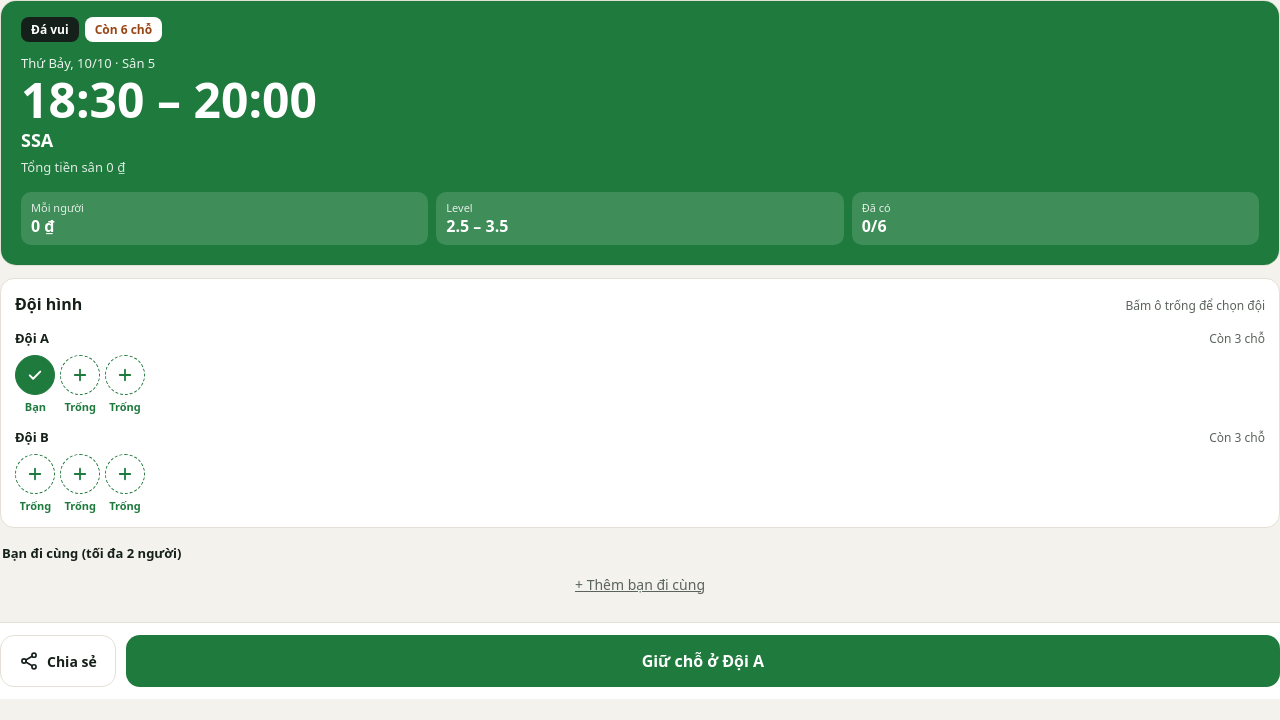
Scenario: TeamSlots › explains a refusal and refreshes the roster
Click the button "Giữ chỗ ở Đội A". click: (703, 661)
box: [126, 635, 1279, 687]
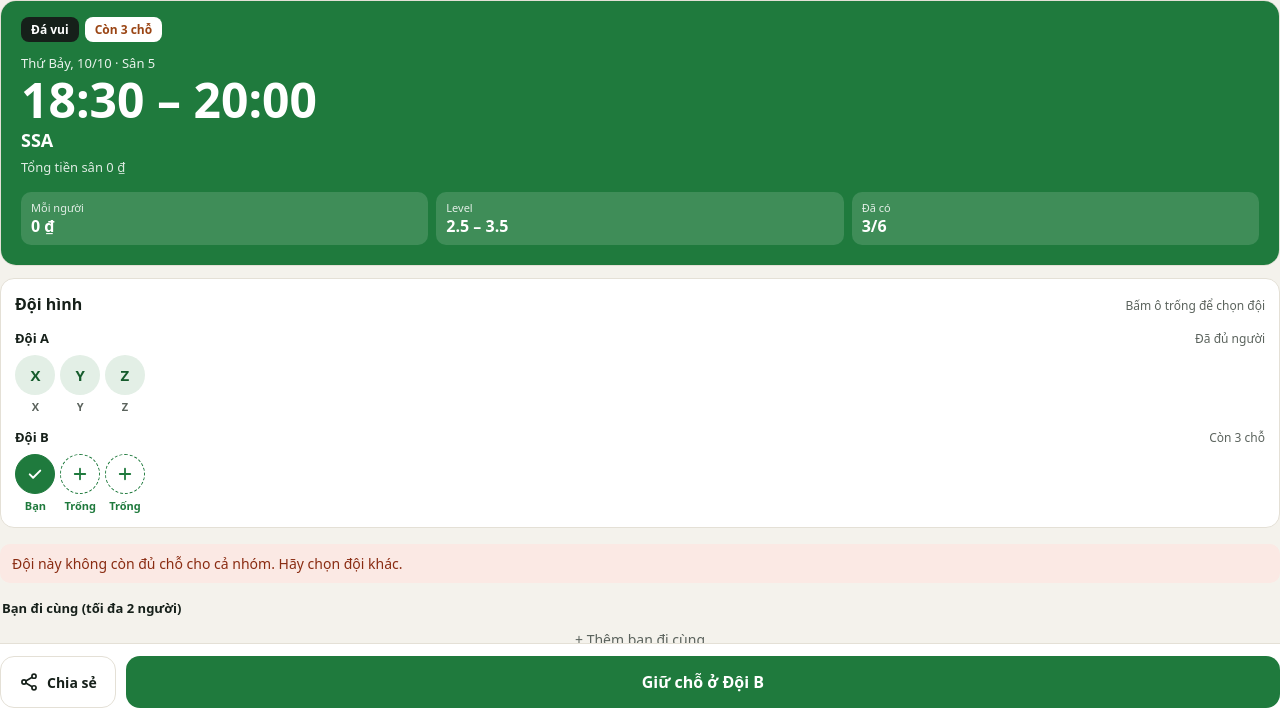
expect the message reads "Đội này không còn đủ chỗ cho cả nhóm. Hãy chọn đội khác.": met, box [12, 554, 402, 573]
expect the text "Đã đủ người" is shown: met, box [1195, 330, 1265, 347]
